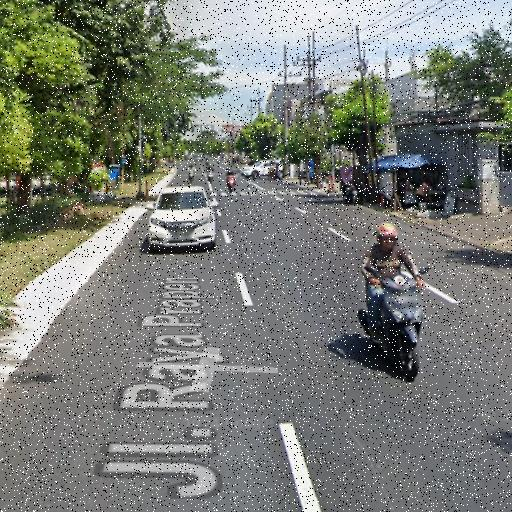Helmet: (377, 223, 398, 238)
Motor: (366, 266, 423, 380), (344, 185, 360, 203), (227, 175, 236, 192), (207, 170, 214, 183), (189, 170, 194, 183)
